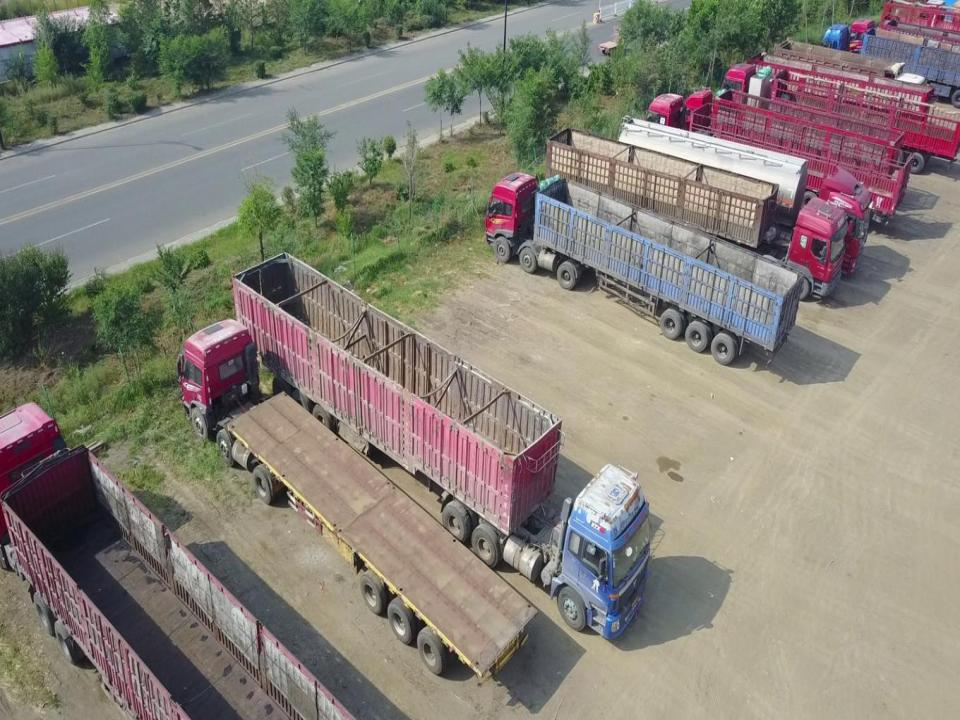truck: (220, 203, 660, 632), (174, 298, 536, 668), (2, 402, 352, 720), (469, 149, 802, 354), (533, 105, 847, 301), (598, 93, 872, 270), (643, 82, 913, 230), (723, 48, 957, 173), (789, 8, 959, 90)
